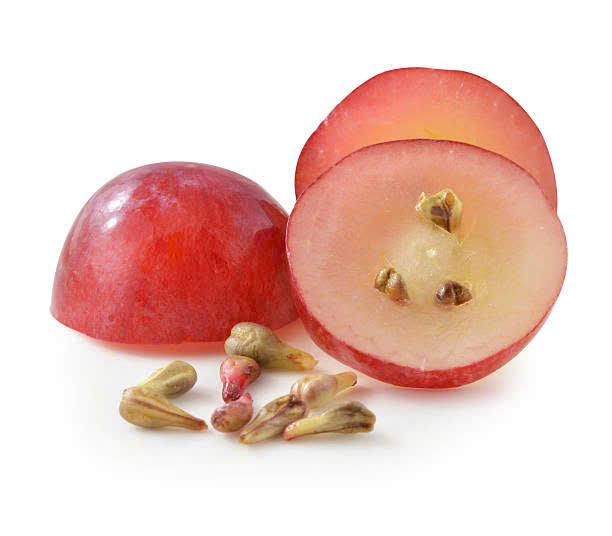grape: (280, 130, 580, 385), (52, 155, 294, 345)
